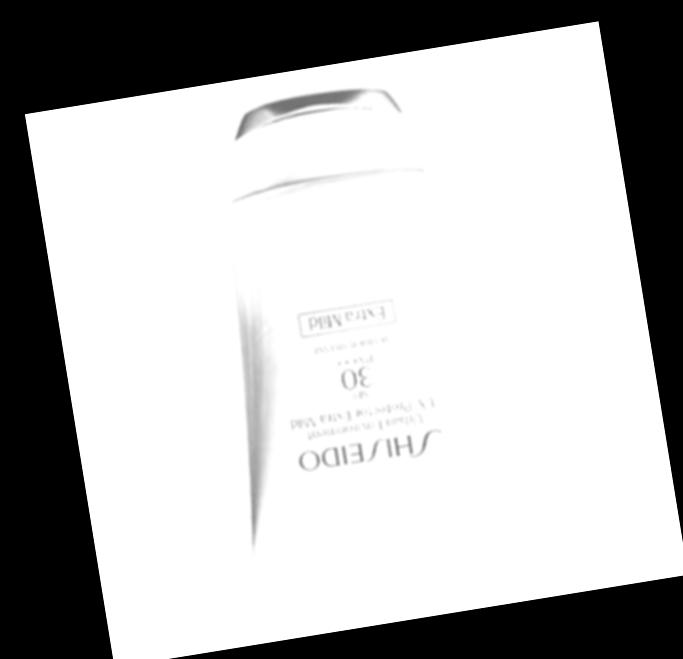cosmetic: (176, 67, 519, 579)
